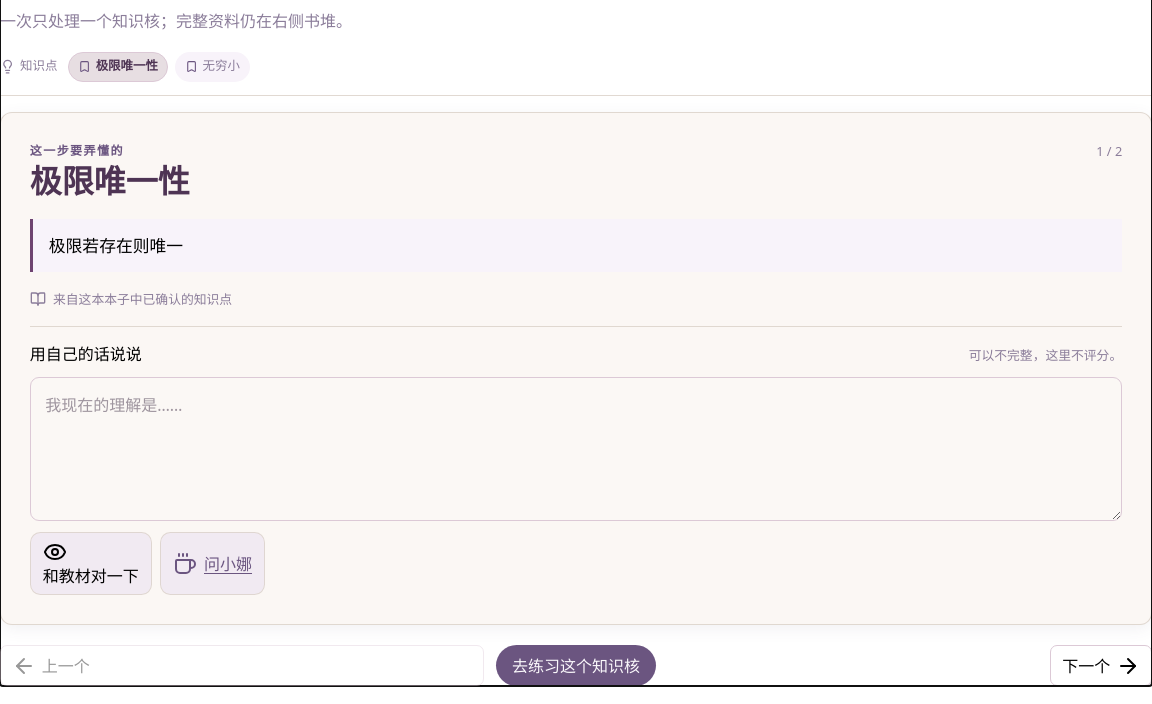
it: LearnPage › shows exactly one knowledge core and preserves each learner draft
Expected: the heading "极限唯一性" is shown, [30,163,190,201]
Type "这是我自己的解释" into the text box named "我的说法" at (576, 449), box [30,377,1122,521]
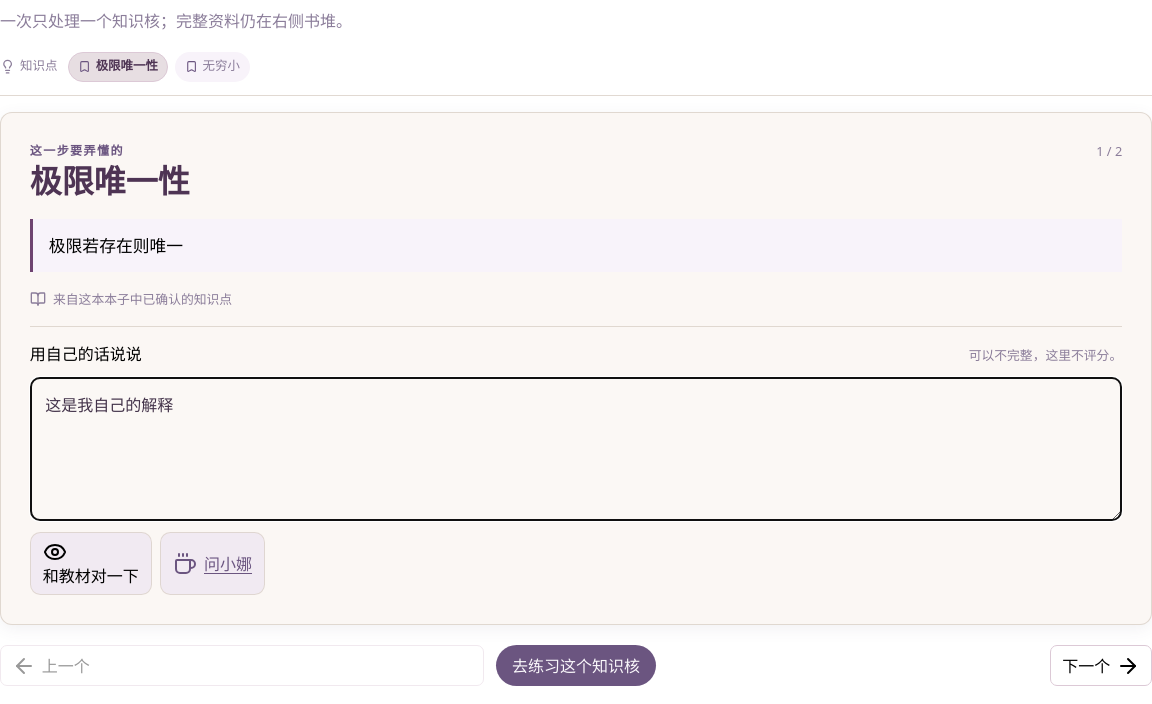
Click the button "和教材对一下" at (91, 564), box [30,532,152,595]
(page scrolled)
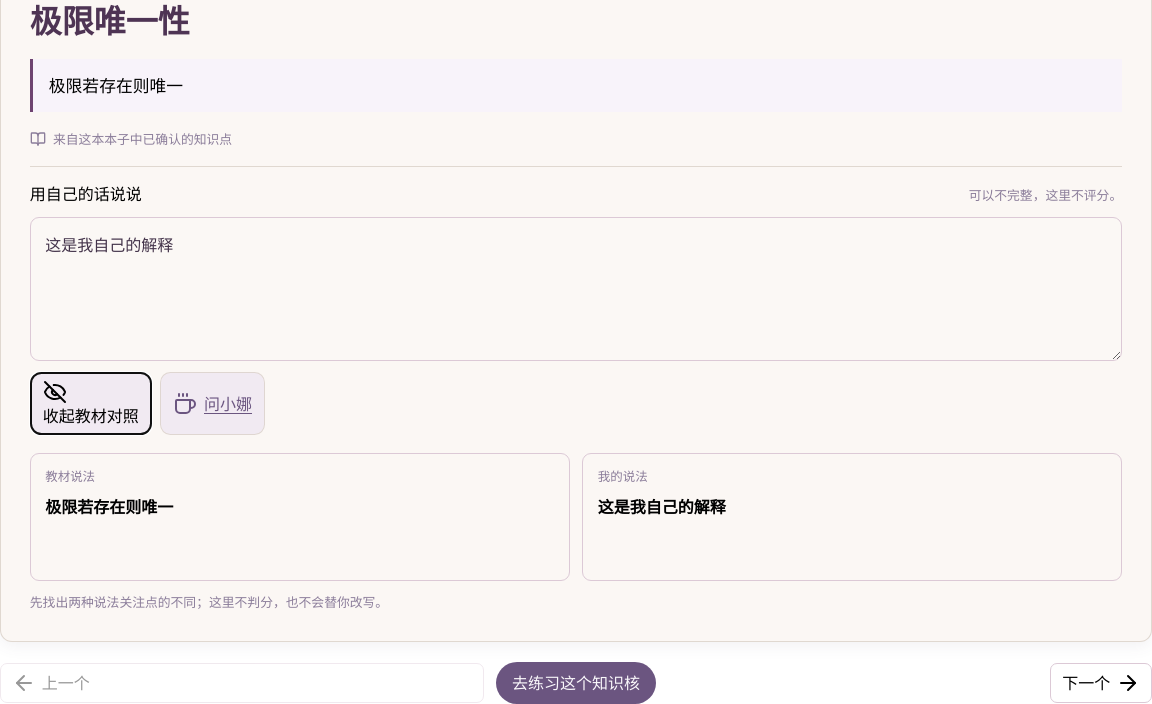
Click the button "下一个" at (1101, 683), box [1050,663,1151,703]
(page scrolled)
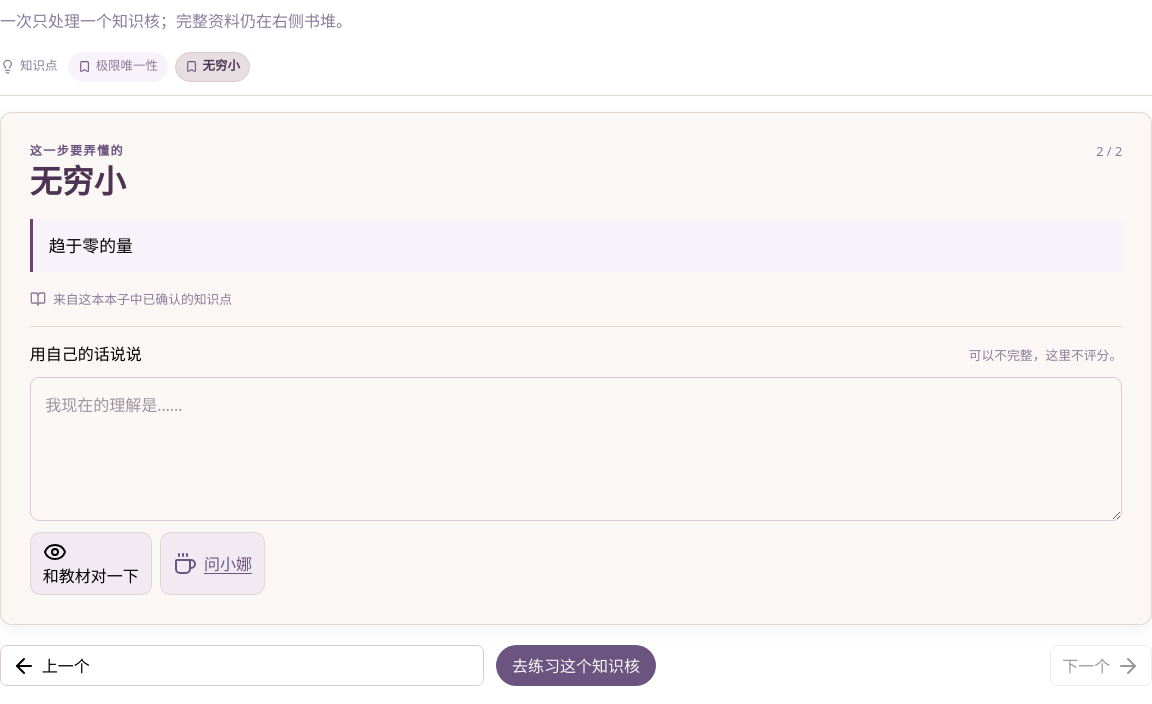
Result: the heading "无穷小" is shown at [30,163,126,201]
Result: the text box named "我的说法" is empty at [30,377,1122,521]
Click the button "上一个" at (66, 666), box [0,645,484,686]
(page scrolled)
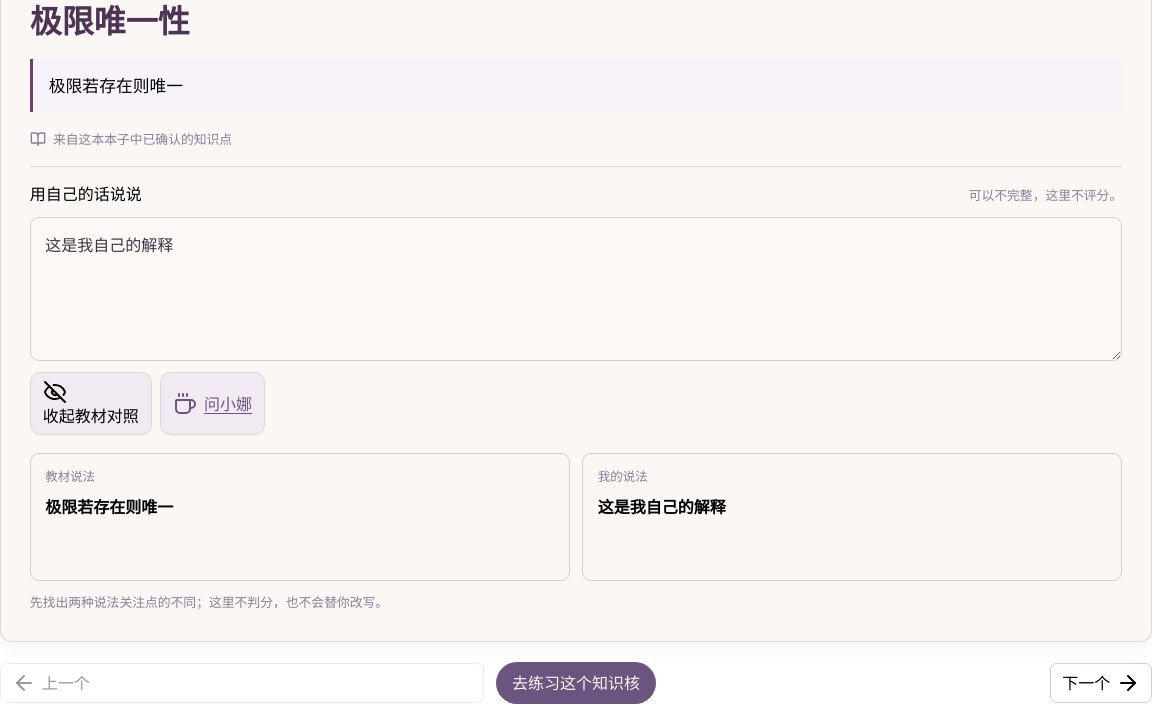
Result: the element named "教材与我的说法对照" is shown at [30,452,1122,612]
